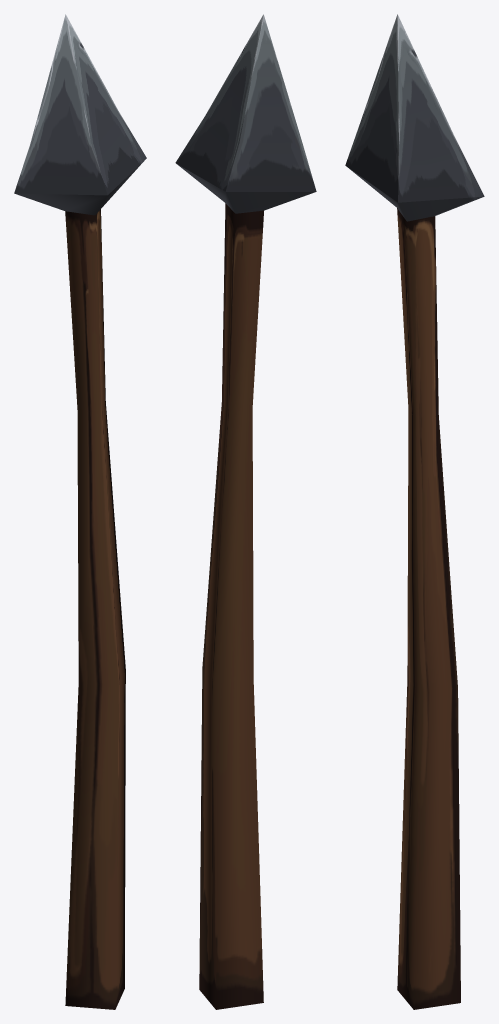
The model's file is SM_PROP_trap_arrow_dungeon_01.fbx.
The picture shows the model from 3 angles, left to right: view 1: azimuth 30°, elevation 25°; view 2: azimuth 150°, elevation 25°; view 3: azimuth 330°, elevation 25°; orthographic projection.
Parts seen in each view (by area): view 1: SM_PROP_trap_arrow_dungeon_01; view 2: SM_PROP_trap_arrow_dungeon_01; view 3: SM_PROP_trap_arrow_dungeon_01.
Part boxes in pixels (x1,y1,x2,y2): SM_PROP_trap_arrow_dungeon_01: (14, 14, 146, 1009); SM_PROP_trap_arrow_dungeon_01: (175, 14, 316, 1009); SM_PROP_trap_arrow_dungeon_01: (345, 14, 484, 1009).
Size of the model in its own units: 20.97 by 145 by 11.43.
